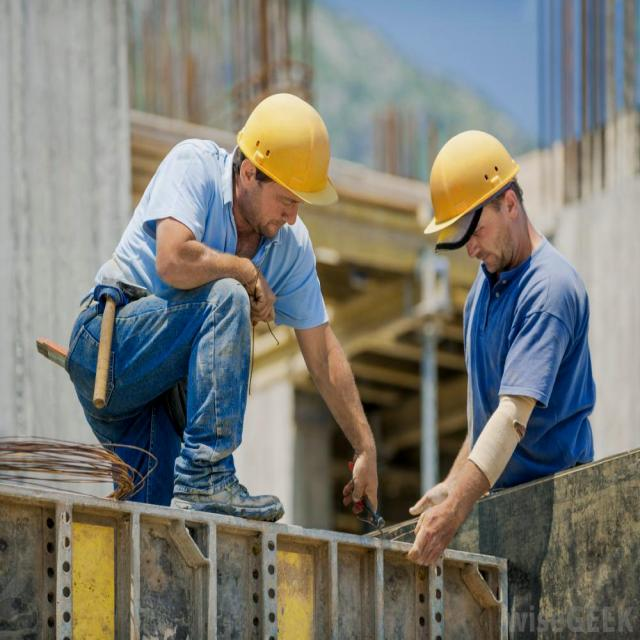face_nomask: (243, 163, 305, 249), (460, 200, 506, 275)
hand_noglove: (224, 257, 281, 345), (336, 441, 388, 536), (408, 484, 462, 574)
person: (65, 91, 380, 524), (418, 124, 597, 560), (230, 91, 344, 204), (425, 128, 522, 235)
shoes: (168, 465, 286, 529)
